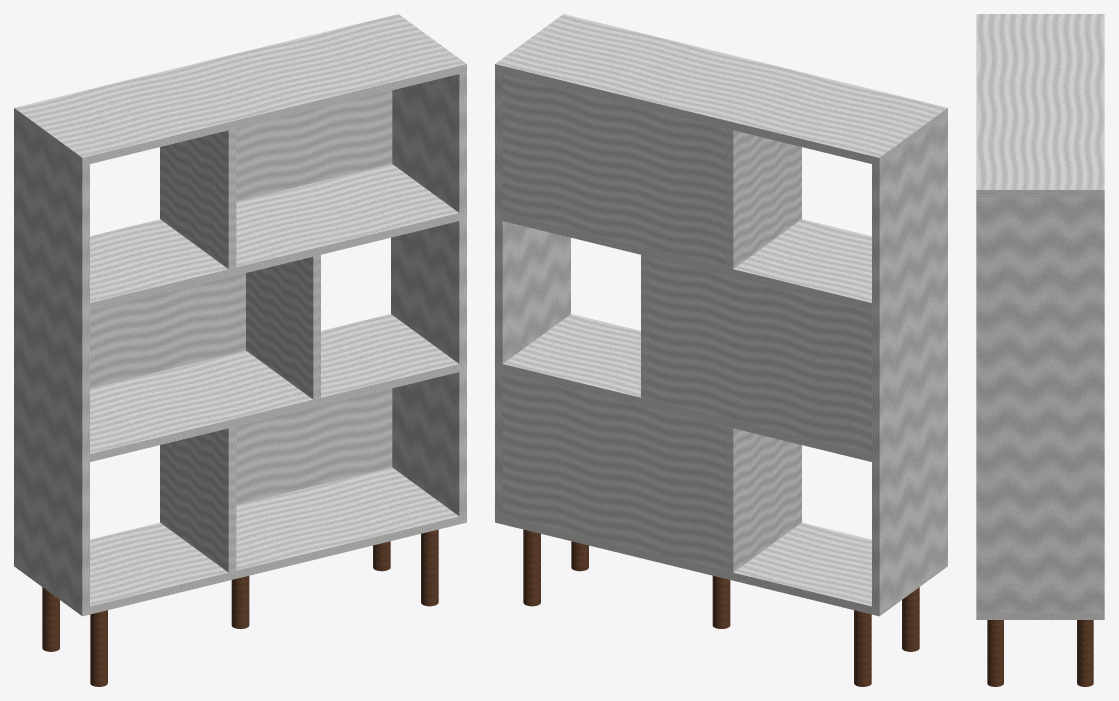
3 renders of one model, left to right at view 1: azimuth 30°, elevation 25°; view 2: azimuth 150°, elevation 25°; view 3: azimuth 270°, elevation 25°, orthographic. The views are drawn at different scales.
Visible parts, largest first — view 1: 5 left_side_panel, 2 top_panel, 6 right_side_panel, 1 bottom_panel, 4 upper_shelf, 3 lower_shelf, 12 bottom_back_panel, 11 middle_back_panel, 10 top_back_panel, 9 bottom_divider, 8 middle_divider, 7 top_divider (+4 smaller); view 2: 5 left_side_panel, 12 bottom_back_panel, 11 middle_back_panel, 10 top_back_panel, 2 top_panel, 6 right_side_panel, 1 bottom_panel, 4 upper_shelf, 3 lower_shelf, 9 bottom_divider, 7 top_divider, 16 back_right_leg (+4 smaller); view 3: 6 right_side_panel, 2 top_panel, 14 front_right_leg, 16 back_right_leg, 1 bottom_panel.
Boxes of the visible parts, bbox=[...] form: 5 left_side_panel: bbox=[14, 106, 89, 614]; 2 top_panel: bbox=[14, 14, 466, 165]; 6 right_side_panel: bbox=[391, 14, 466, 521]; 1 bottom_panel: bbox=[14, 467, 466, 616]; 4 upper_shelf: bbox=[90, 164, 459, 310]; 3 lower_shelf: bbox=[90, 314, 459, 461]; 12 bottom_back_panel: bbox=[236, 388, 392, 505]; 11 middle_back_panel: bbox=[90, 273, 245, 388]; 10 top_back_panel: bbox=[236, 90, 392, 201]; 9 bottom_divider: bbox=[160, 426, 236, 572]; 8 middle_divider: bbox=[246, 255, 320, 399]; 7 top_divider: bbox=[160, 128, 236, 269]; 5 left_side_panel: bbox=[872, 106, 947, 615]; 12 bottom_back_panel: bbox=[502, 372, 725, 570]; 11 middle_back_panel: bbox=[648, 257, 871, 453]; 10 top_back_panel: bbox=[502, 74, 725, 267]; 2 top_panel: bbox=[495, 14, 947, 165]; 6 right_side_panel: bbox=[495, 14, 570, 523]; 1 bottom_panel: bbox=[495, 514, 947, 616]; 4 upper_shelf: bbox=[502, 213, 871, 310]; 3 lower_shelf: bbox=[502, 314, 871, 461]; 9 bottom_divider: bbox=[725, 426, 801, 572]; 7 top_divider: bbox=[725, 128, 801, 269]; 16 back_right_leg: bbox=[523, 529, 540, 606]; 6 right_side_panel: bbox=[976, 186, 1104, 619]; 2 top_panel: bbox=[976, 14, 1104, 197]; 14 front_right_leg: bbox=[987, 620, 1003, 686]; 16 back_right_leg: bbox=[1077, 620, 1093, 686]; 1 bottom_panel: bbox=[976, 612, 1104, 619].
Size of the model in its own units: 0.746 by 1 by 0.23.
Materials: 2 (2 with a texture image).
